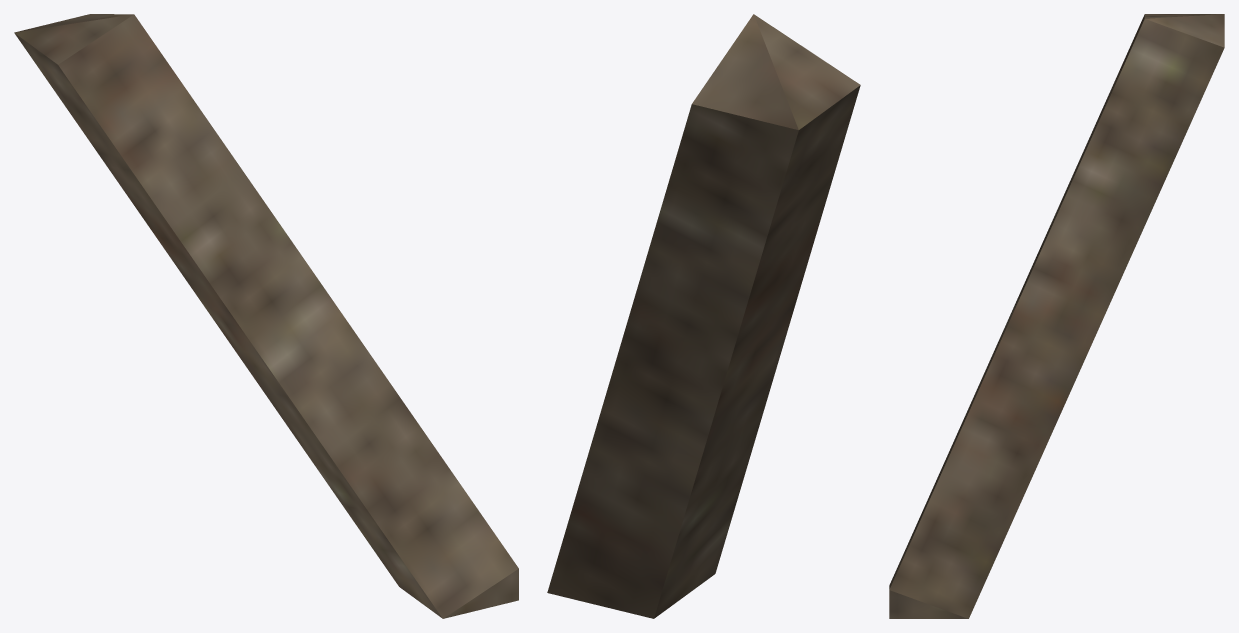
Rendered from whitebeam_thin_branch_22.5_diagonal.obj.
The picture shows the model from 3 angles, left to right: view 1: azimuth 30°, elevation 25°; view 2: azimuth 150°, elevation 25°; view 3: azimuth 270°, elevation 25°; orthographic projection. The views are drawn at different scales.
Visible parts, largest first — view 1: cube_selection; view 2: cube_selection; view 3: cube_selection.
Boxes of the visible parts, left/top/right/bottom form: cube_selection: left=14, top=14, right=518, bottom=618; cube_selection: left=547, top=14, right=860, bottom=618; cube_selection: left=889, top=14, right=1224, bottom=618.
Bounding box in the file's own units: 1.31 × 2.12 × 1.31.
